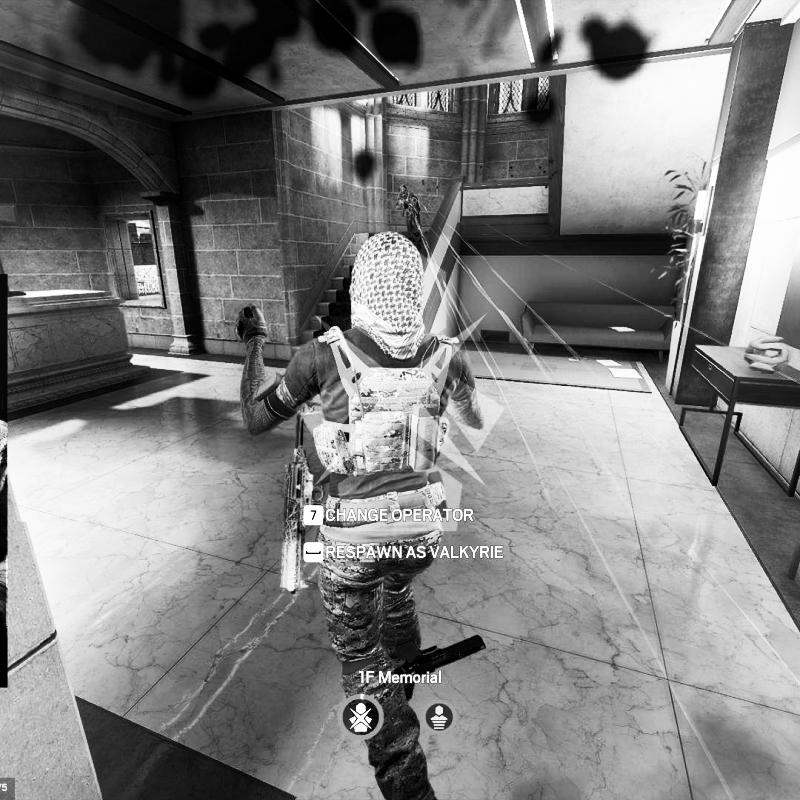Character: (234, 229, 481, 800), (394, 184, 423, 235)
Head: (346, 232, 428, 359), (398, 184, 409, 196)
